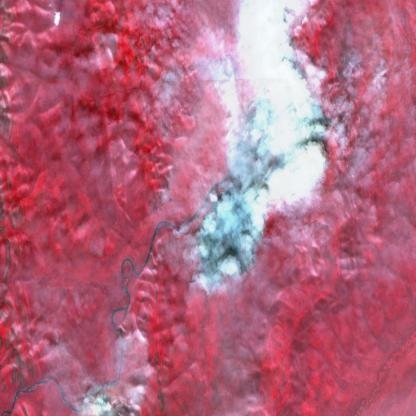fire: (193, 140, 328, 290)
